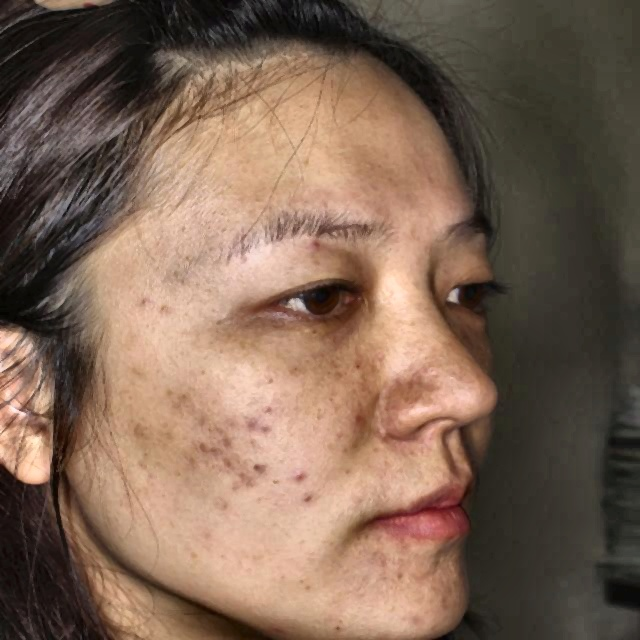comedone: (198, 429, 222, 466), (245, 410, 276, 435), (341, 407, 369, 434)
